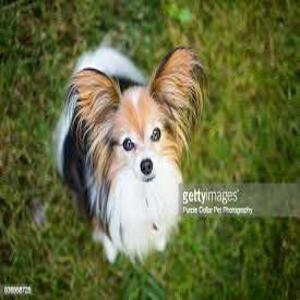yell: (54, 46, 208, 263)
